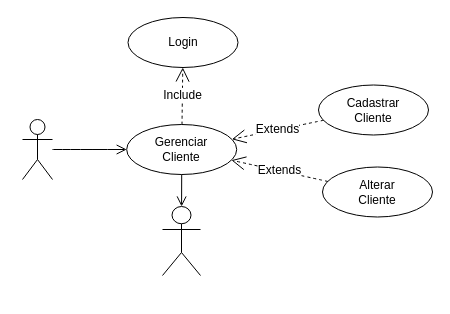
The diagram is 450 pixels wide and 314 high, and some of its shapes have lost their labels. Each missing label, with the box of its shape:
SGBD: (162, 206, 200, 276)
Usuário: (22, 118, 52, 180)
